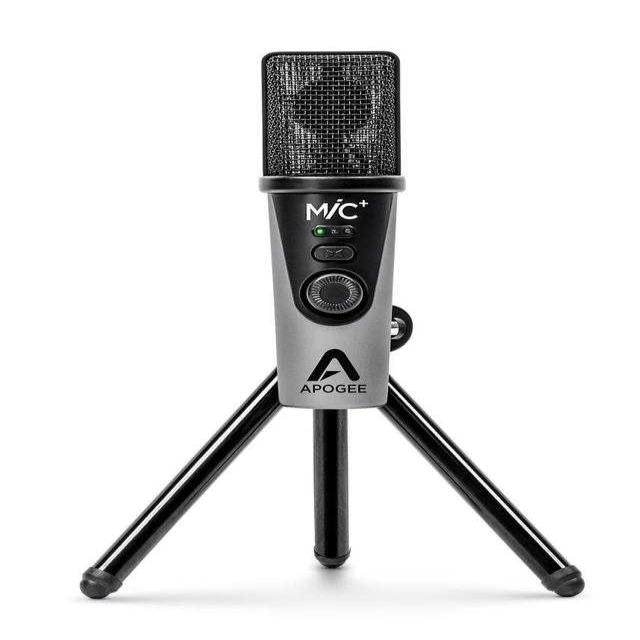microphone: (251, 46, 435, 483)
